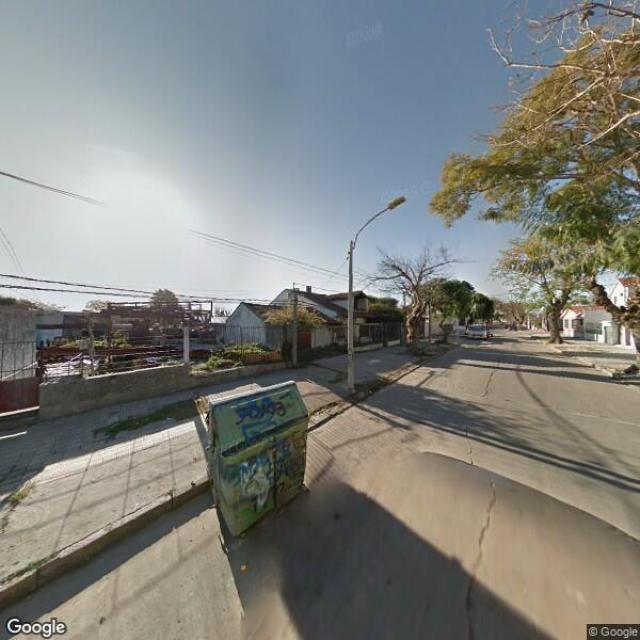garbage container: (188, 372, 325, 550)
